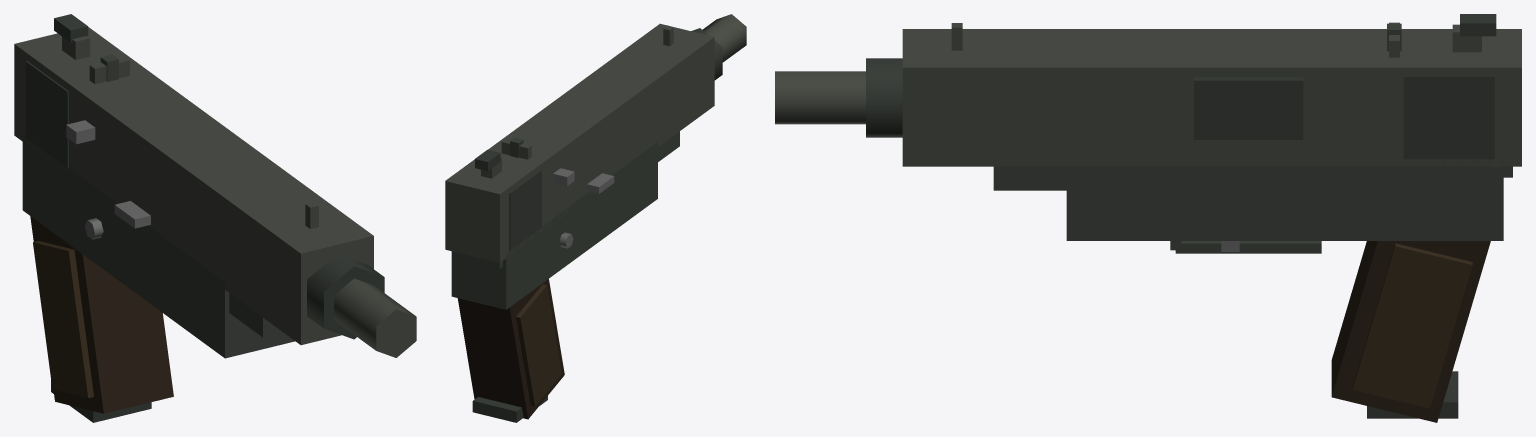
The picture shows the model from 3 angles, left to right: view 1: azimuth 30°, elevation 25°; view 2: azimuth 150°, elevation 25°; view 3: azimuth 270°, elevation 25°; orthographic projection. The views are drawn at different scales.
Parts seen in each view (by area): view 1: Mesh_Slide, Mesh_Frame, Mesh_GripMesh, Mesh_GripPanelL, Mesh_Barrel, Mesh_SlideSerrations, Mesh_BarrelBushing, Mesh_FrameRail, Mesh_HammerSpur, Mesh_SlideStop, Mesh_MagazineBase, Mesh_ThumbSafety (+2 smaller); view 2: Mesh_Slide, Mesh_Frame, Mesh_GripMesh, Mesh_GripPanelL, Mesh_SlideSerrations, Mesh_Barrel, Mesh_MagazineBase, Mesh_HammerSpur, Mesh_SlideStop, Mesh_BarrelBushing, Mesh_GripSafety, Mesh_FrameRail (+2 smaller); view 3: Mesh_Slide, Mesh_Frame, Mesh_GripPanelR, Mesh_GripMesh, Mesh_SlideSerrations, Mesh_EjectionPort, Mesh_Barrel, Mesh_BarrelBushing, Mesh_FrameRail, Mesh_TriggerGuardBottom, Mesh_MagazineBase, Mesh_HammerSpur.
Part boxes in pixels (bbox=[...]): Mesh_Slide: bbox=[14, 27, 373, 345]; Mesh_Frame: bbox=[22, 134, 294, 358]; Mesh_GripMesh: bbox=[30, 216, 173, 413]; Mesh_GripPanelL: bbox=[33, 241, 93, 398]; Mesh_Barrel: bbox=[334, 278, 416, 357]; Mesh_SlideSerrations: bbox=[25, 61, 68, 168]; Mesh_BarrelBushing: bbox=[307, 254, 384, 339]; Mesh_FrameRail: bbox=[229, 293, 283, 337]; Mesh_HammerSpur: bbox=[54, 14, 88, 42]; Mesh_SlideStop: bbox=[114, 201, 150, 228]; Mesh_MagazineBase: bbox=[51, 380, 151, 422]; Mesh_ThumbSafety: bbox=[66, 120, 95, 144]; Mesh_Slide: bbox=[445, 23, 714, 262]; Mesh_Frame: bbox=[451, 142, 657, 309]; Mesh_GripMesh: bbox=[457, 279, 564, 419]; Mesh_GripPanelL: bbox=[516, 284, 561, 406]; Mesh_SlideSerrations: bbox=[509, 170, 541, 250]; Mesh_Barrel: bbox=[702, 14, 746, 62]; Mesh_MagazineBase: bbox=[472, 396, 547, 422]; Mesh_HammerSpur: bbox=[475, 149, 500, 170]; Mesh_SlideStop: bbox=[587, 173, 614, 193]; Mesh_BarrelBushing: bbox=[691, 28, 722, 80]; Mesh_GripSafety: bbox=[451, 251, 502, 268]; Mesh_FrameRail: bbox=[658, 131, 679, 161]; Mesh_Slide: bbox=[902, 29, 1521, 166]; Mesh_Frame: bbox=[1066, 158, 1503, 240]; Mesh_GripPanelR: bbox=[1352, 243, 1472, 408]; Mesh_GripMesh: bbox=[1331, 241, 1490, 422]; Mesh_SlideSerrations: bbox=[1403, 76, 1494, 159]; Mesh_EjectionPort: bbox=[1194, 77, 1303, 139]; Mesh_Barrel: bbox=[775, 71, 865, 124]; Mesh_BarrelBushing: bbox=[866, 58, 902, 137]; Mesh_FrameRail: bbox=[993, 166, 1066, 190]; Mesh_TriggerGuardBottom: bbox=[1175, 241, 1321, 253]; Mesh_MagazineBase: bbox=[1367, 371, 1458, 418]; Mesh_HammerSpur: bbox=[1460, 14, 1496, 36].
Bounding box in the file's own units: 0.0335 × 0.1169 × 0.205.
